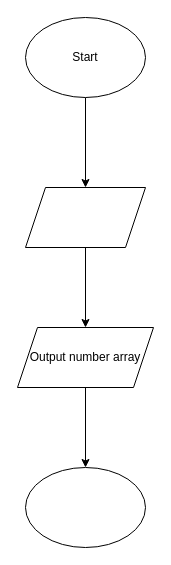
The diagram is 171 pixels wide and 565 high, and some of its shapes have lost their labels. Here are the shapes that lost their labels. From the top down, the centre of each, then its label:
At (x=85, y=217): "Input numbers".
At (x=85, y=507): "End".
